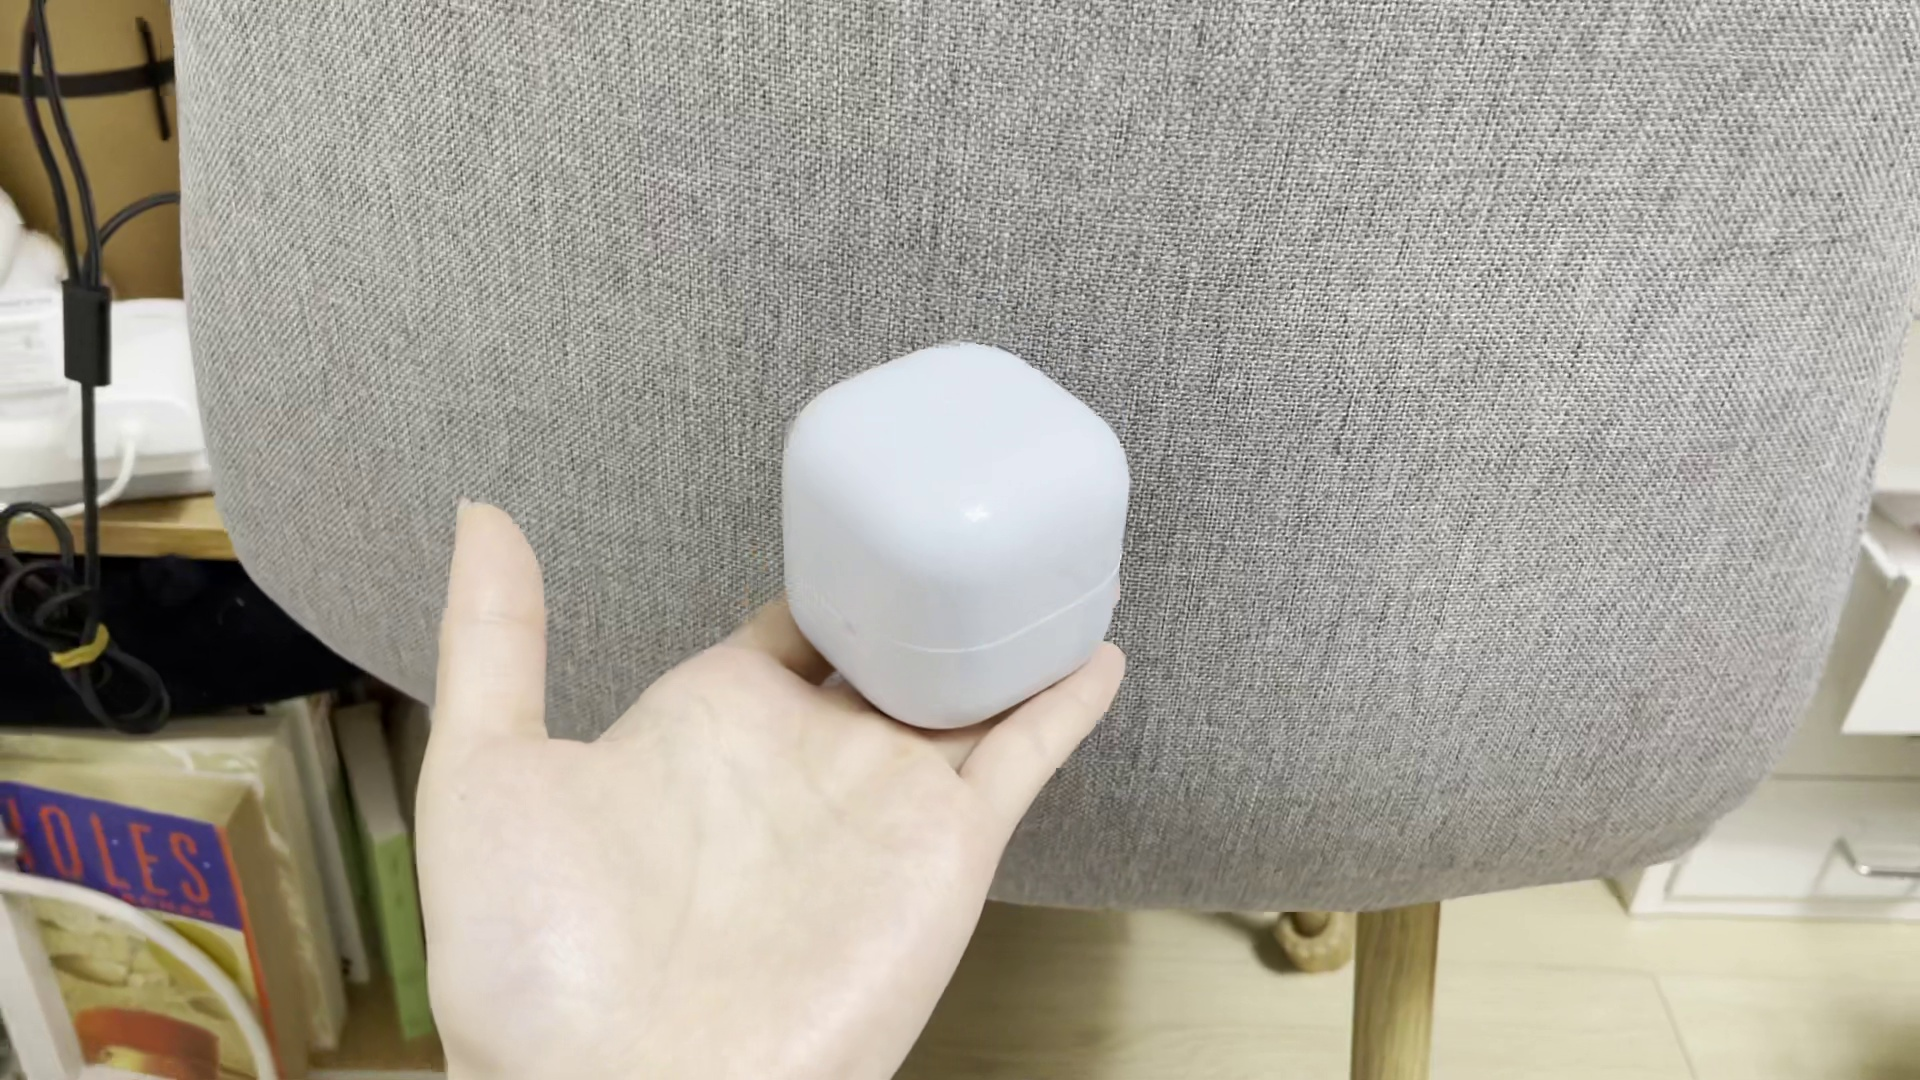cream: (782, 344, 1127, 717)
